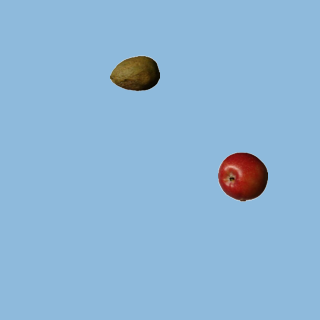Apple Braeburn: (217, 151, 267, 201)
Papaya: (109, 48, 159, 98)
